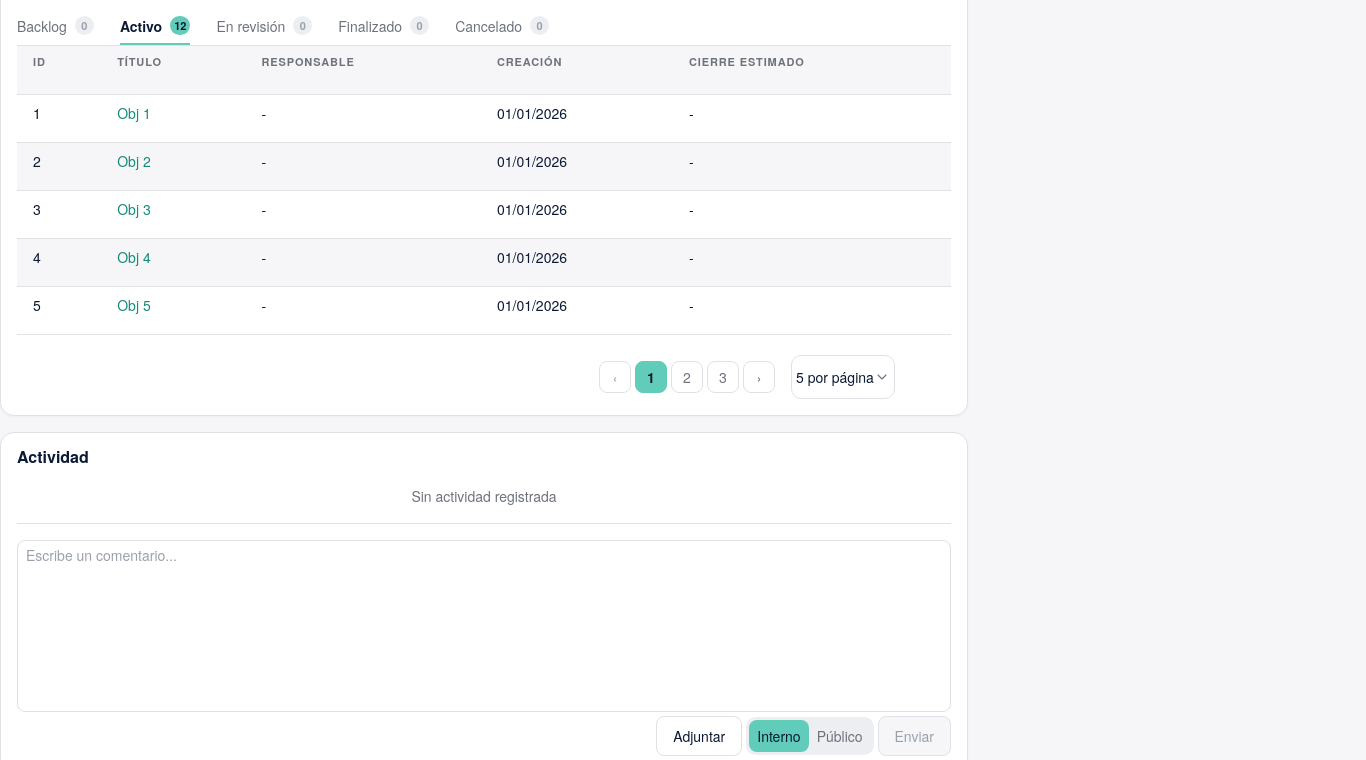
Test: RequirementDetail › Card Tareas — linkedObjectives (AC-6/AC-7) › Paginado unificado con el de detalle de proyecto (S-039) › TS-6: la página activa se marca correctamente tras el click
The width and height of the screenshot is (1366, 760).
(page scrolled)
Click the button named "Página 3" at (723, 377), box [707,361,739,393]
(page scrolled)
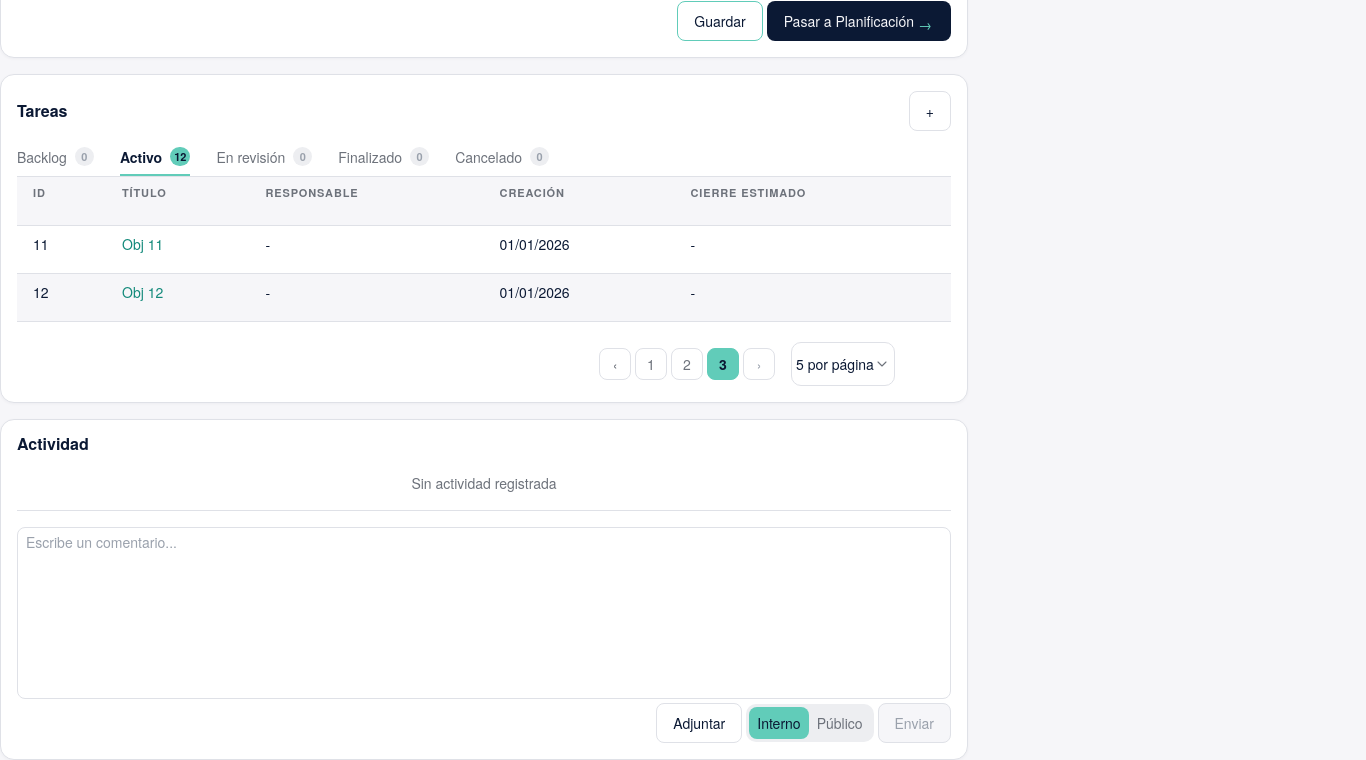
expect the button named "Página 3" is disabled: met, box [707,348,739,380]
